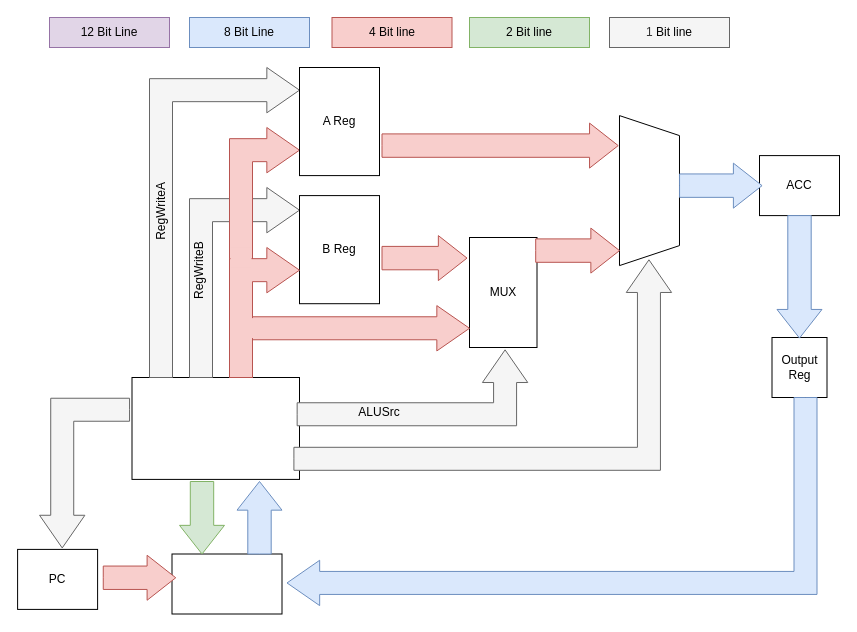
Some shapes in this 857 by 632 pixel diagram are drawn without their labels. The box of each missing label's shape, as (x1, y1, x2, y2) in pixels:
ALU: (618, 115, 680, 266)
ALUOp: (293, 259, 672, 470)
Control Sequencer: (131, 376, 300, 479)
I/O: (171, 553, 282, 614)
Immediate: (230, 247, 251, 267)
PCInc: (38, 397, 130, 548)
